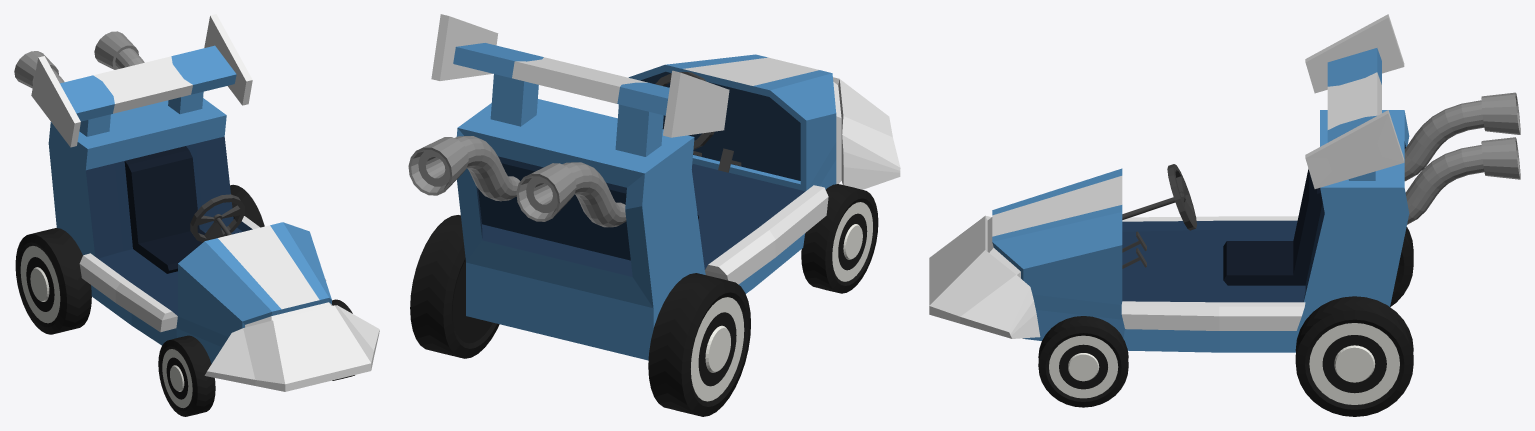
The model's file is kartJoinedColor.fbx.
3 renders of one model, left to right at view 1: azimuth 30°, elevation 25°; view 2: azimuth 150°, elevation 25°; view 3: azimuth 270°, elevation 25°, orthographic. The views are drawn at different scales.
Visible parts, largest first — view 1: Body, Back Wheel, wheelFront; view 2: Body, Back Wheel, wheelFront; view 3: Body, Back Wheel, wheelFront.
Boxes of the visible parts, x1=… form: Body: x1=14, y1=14, x2=379, y2=391; Back Wheel: x1=15, y1=184, x2=264, y2=334; wheelFront: x1=158, y1=299, x2=354, y2=416; Body: x1=408, y1=14, x2=900, y2=360; Back Wheel: x1=410, y1=215, x2=750, y2=416; wheelFront: x1=801, y1=184, x2=878, y2=293; Body: x1=929, y1=14, x2=1520, y2=352; Back Wheel: x1=1295, y1=227, x2=1413, y2=416; wheelFront: x1=1038, y1=316, x2=1128, y2=407.
Size of the model in its own units: 319 by 384 by 691.
